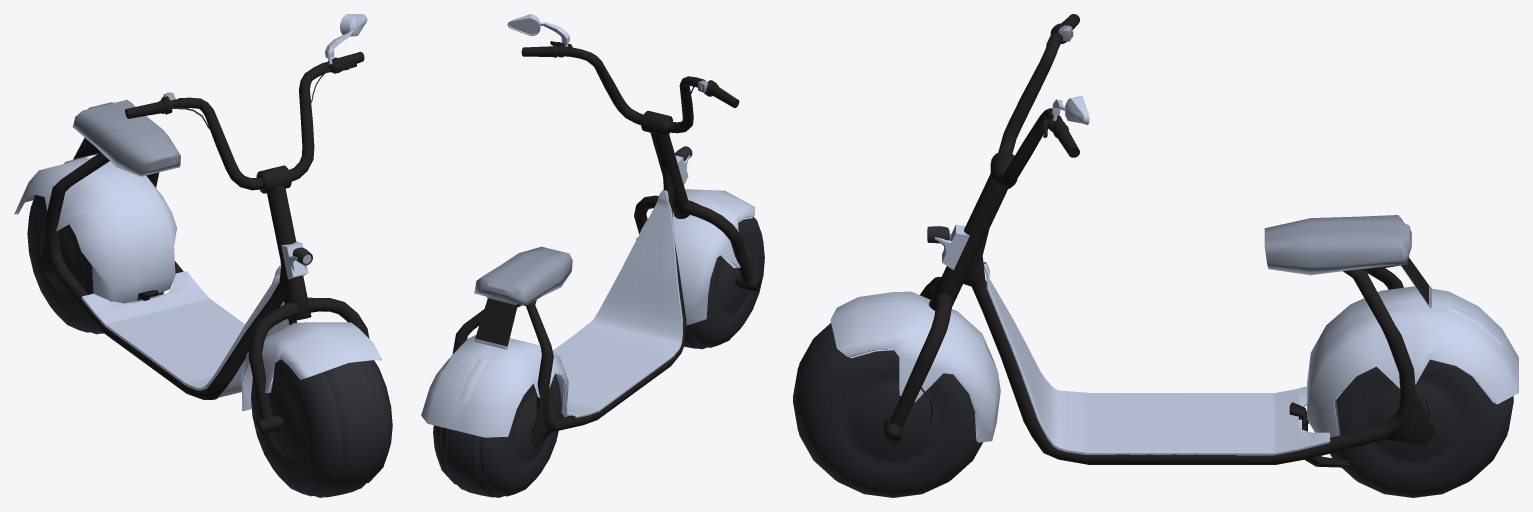
File: Scrooser.fbx
3 views of the same model, side by side, from view 1: azimuth 30°, elevation 25°; view 2: azimuth 150°, elevation 25°; view 3: azimuth 270°, elevation 25° (orthographic). The views are drawn at different scales.
Visible parts, largest first — view 1: pCylinder5, pCylinder7, pCube2, pCylinder9, polySurface2, pCube1, pCylinder4, pasted__pCylinder5, pCylinder2, pCylinder1, pCube3, pasted__pCube2 (+1 smaller); view 2: pCube2, pCylinder7, pasted__pCylinder5, pCylinder9, pCube1, pCylinder5, polySurface2, pCylinder4, pCylinder2, pCylinder1, pCylinder10, polySurface1; view 3: pCylinder5, pCube2, pCylinder7, pasted__pCylinder5, pCylinder9, polySurface1, pCube1, pCylinder4, pCylinder1, pCylinder2, polySurface2, pCube3.
Part boxes in pixels (x1,y1,x2,y2): pCylinder5: (251, 359, 392, 497); pCylinder7: (14, 157, 176, 303); pCube2: (81, 265, 280, 390); pCylinder9: (241, 322, 381, 411); polySurface2: (40, 152, 286, 399); pCube1: (72, 99, 180, 176); pCylinder4: (125, 51, 364, 193); pasted__pCylinder5: (27, 195, 163, 334); pCylinder2: (248, 297, 369, 419); pCylinder1: (267, 185, 311, 320); pCube3: (281, 241, 308, 279); pasted__pCube2: (218, 301, 289, 397); pCube2: (553, 190, 682, 417); pCylinder7: (421, 335, 568, 437); pasted__pCylinder5: (433, 373, 561, 497); pCylinder9: (636, 189, 755, 325); pCube1: (474, 246, 572, 349); pCylinder5: (684, 217, 764, 349); polySurface2: (526, 164, 686, 448); pCylinder4: (521, 45, 739, 136); pCylinder2: (634, 195, 752, 283); pCylinder1: (650, 132, 689, 218); pCylinder10: (507, 14, 540, 35); polySurface1: (452, 309, 484, 354); pCylinder5: (793, 323, 983, 497); pCube2: (983, 262, 1330, 455); pCylinder7: (1307, 286, 1518, 437); pasted__pCylinder5: (1330, 359, 1513, 497); pCylinder9: (830, 291, 1000, 442); polySurface1: (972, 269, 1436, 464); pCube1: (1264, 215, 1431, 308); pCylinder4: (990, 14, 1079, 188); pCylinder1: (929, 174, 1007, 310); pCylinder2: (889, 276, 952, 428); polySurface2: (963, 229, 1403, 405); pCube3: (934, 224, 969, 269).
Bounding box in the file's own units: 4.7 × 7.12 × 10.33.
